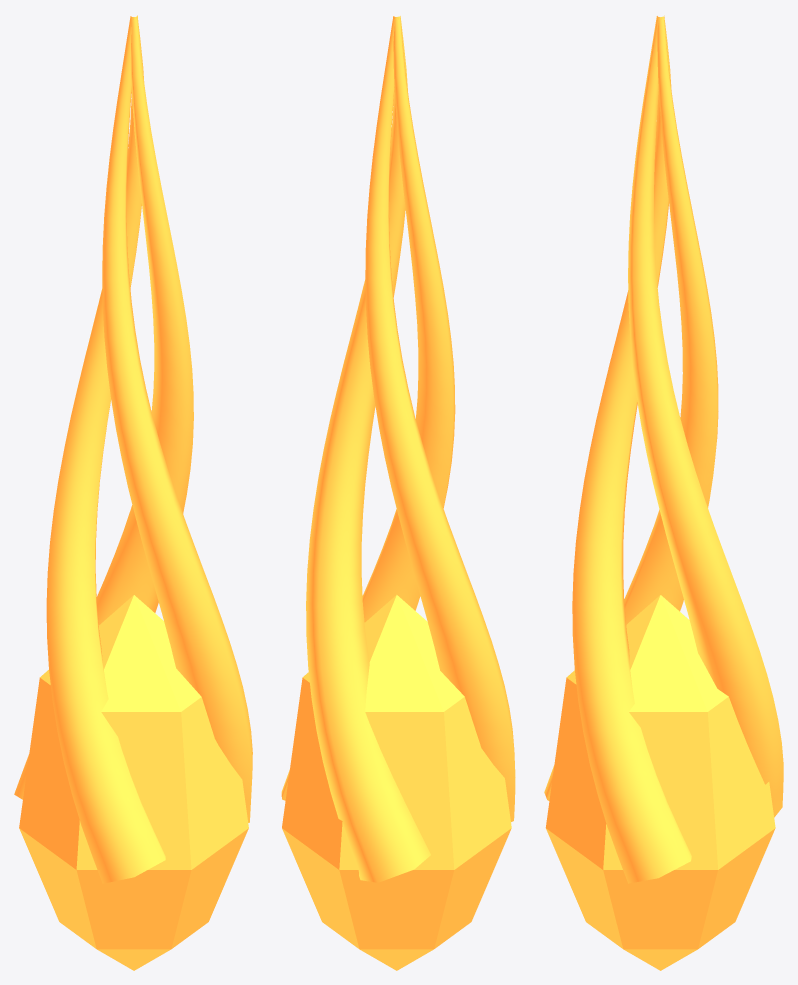
The model's file is moonsteel-convergence-searing-bolt-7061b5c2__18214.glb.
3 views of the same model, side by side, from view 1: azimuth 30°, elevation 25°; view 2: azimuth 150°, elevation 25°; view 3: azimuth 270°, elevation 25° (orthographic).
Parts seen in each view (by area): view 1: searing-bolt; view 2: searing-bolt; view 3: searing-bolt.
Part boxes in pixels (left/top/right/bottom): searing-bolt: left=14, top=15, right=252, bottom=970; searing-bolt: left=281, top=16, right=515, bottom=970; searing-bolt: left=544, top=15, right=783, bottom=970.
Size of the model in its own units: 0.3778 by 1.65 by 0.375.
